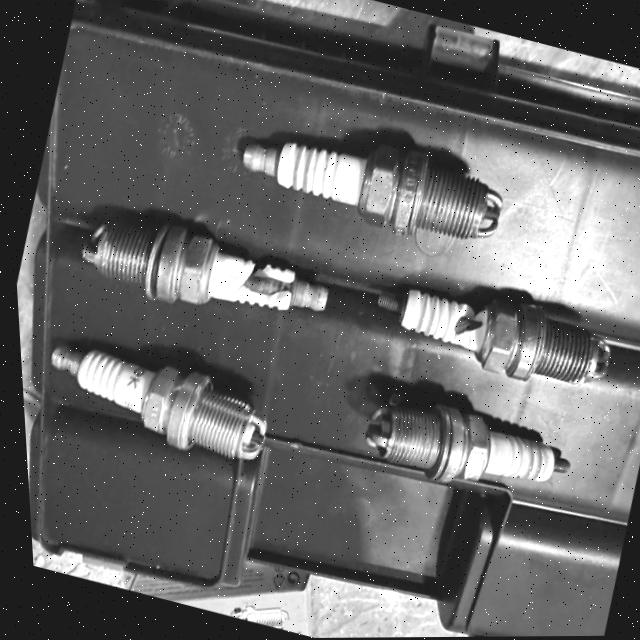damaged_spark-plug: (356, 267, 612, 406), (72, 206, 337, 333)
spark-plug: (232, 122, 502, 250), (30, 336, 270, 468), (347, 390, 568, 506)
